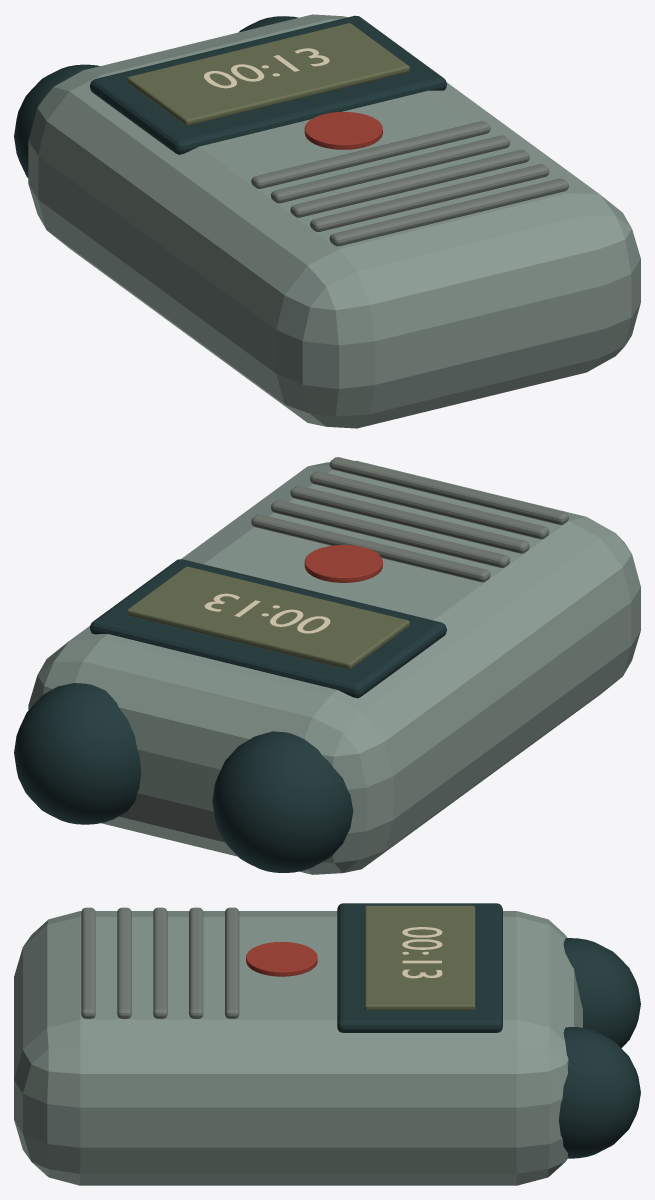
The model's file is voice_recorder.glb.
The picture shows the model from 3 angles, top to bottom: view 1: azimuth 30°, elevation 25°; view 2: azimuth 150°, elevation 25°; view 3: azimuth 270°, elevation 25°; orthographic projection. The views are drawn at different scales.
Parts seen in each view (by area): view 1: voice_recorder; view 2: voice_recorder; view 3: voice_recorder.
Part boxes in pixels (x1,y1,x2,y2): voice_recorder: (14,14,640,428); voice_recorder: (14,457,640,874); voice_recorder: (14,903,640,1185).
Bounding box in the file's own units: 0.0719 × 0.037 × 0.12.
